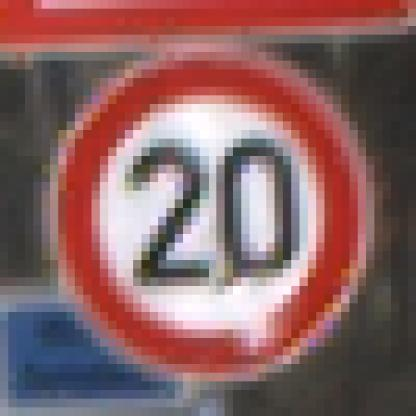Speed Limit 20: (52, 48, 376, 381)
